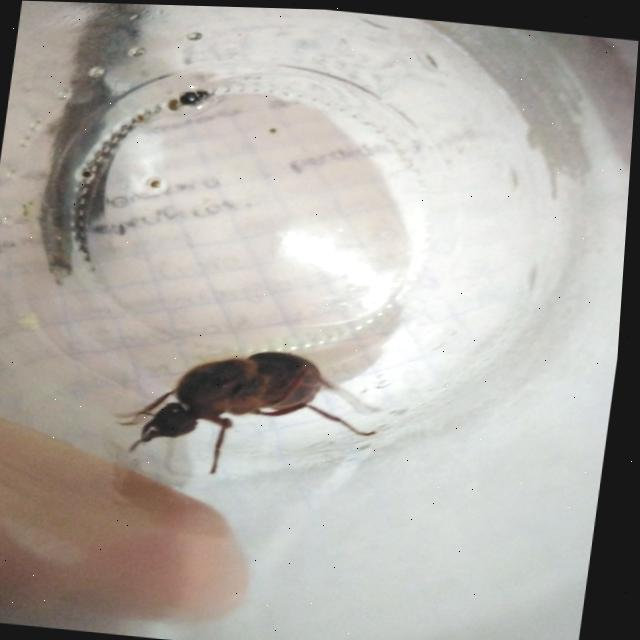Alive-Female-Dealate: (111, 335, 394, 488)
